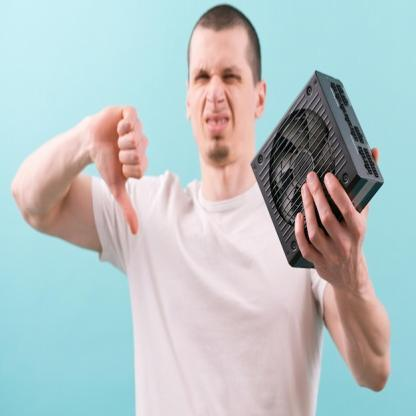thumb_down: (90, 100, 148, 238)
